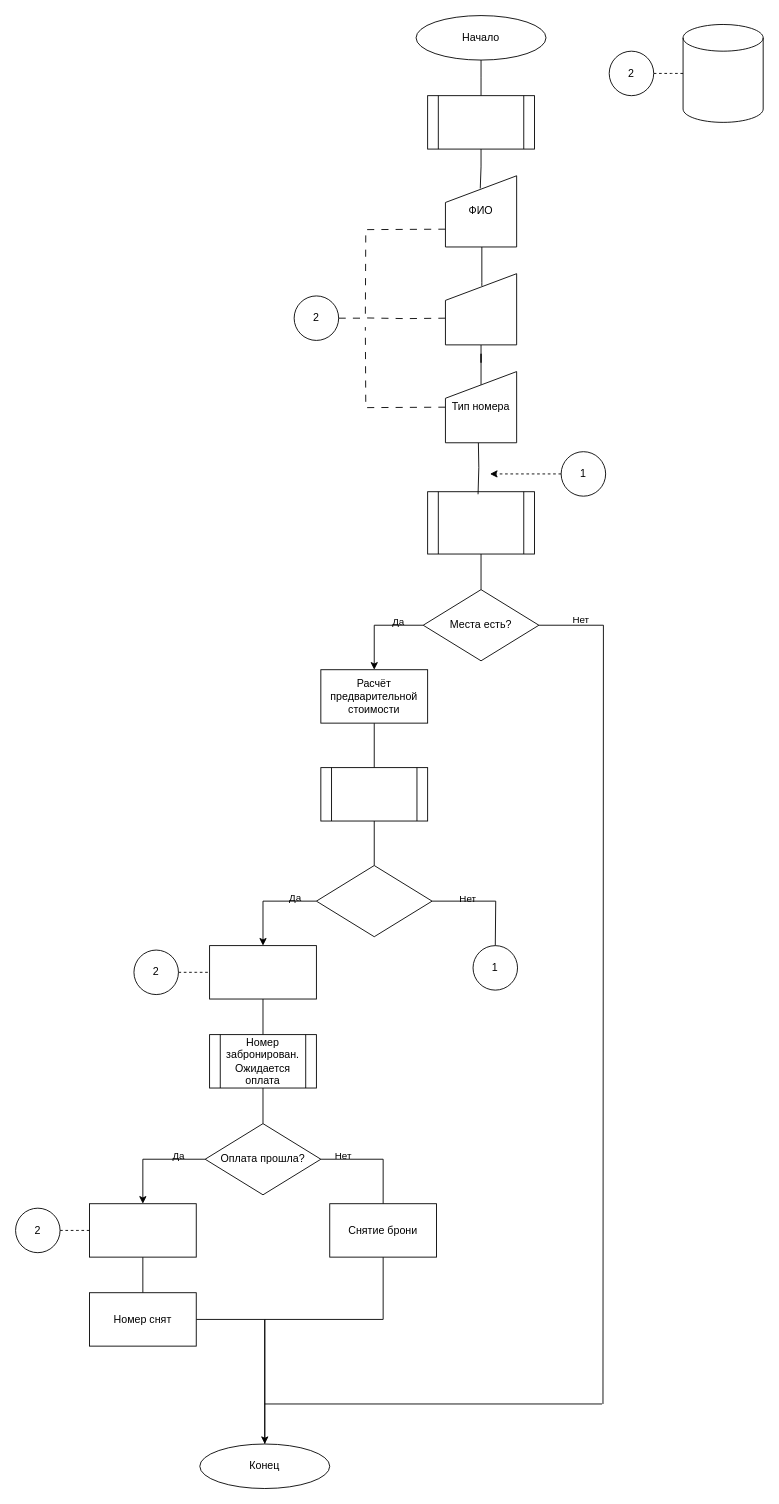
Some shapes in this 779 by 1504 pixel diagram are drawn without their labels. Here are the shapes that lost their labels. From the top down, the centre of each, then its label:
the point at 722,73: База данных
the point at 480,122: Ввод данных
the point at 481,309: Дата заезда и выезда
the point at 480,522: Проверка наличия свободных мест в выбранный период
the point at 374,794: Стоимость составляет х рублей
the point at 374,901: Клиент согласен?
the point at 262,972: Внесение данных в БД (статус "Ожидание")
the point at 142,1230: Изменение статуса в БД на "Подтверждено"
